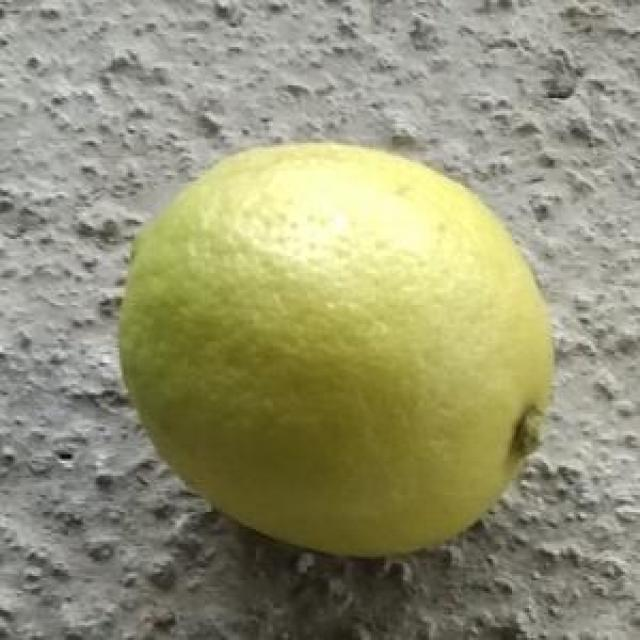lemon: (115, 136, 558, 560)
